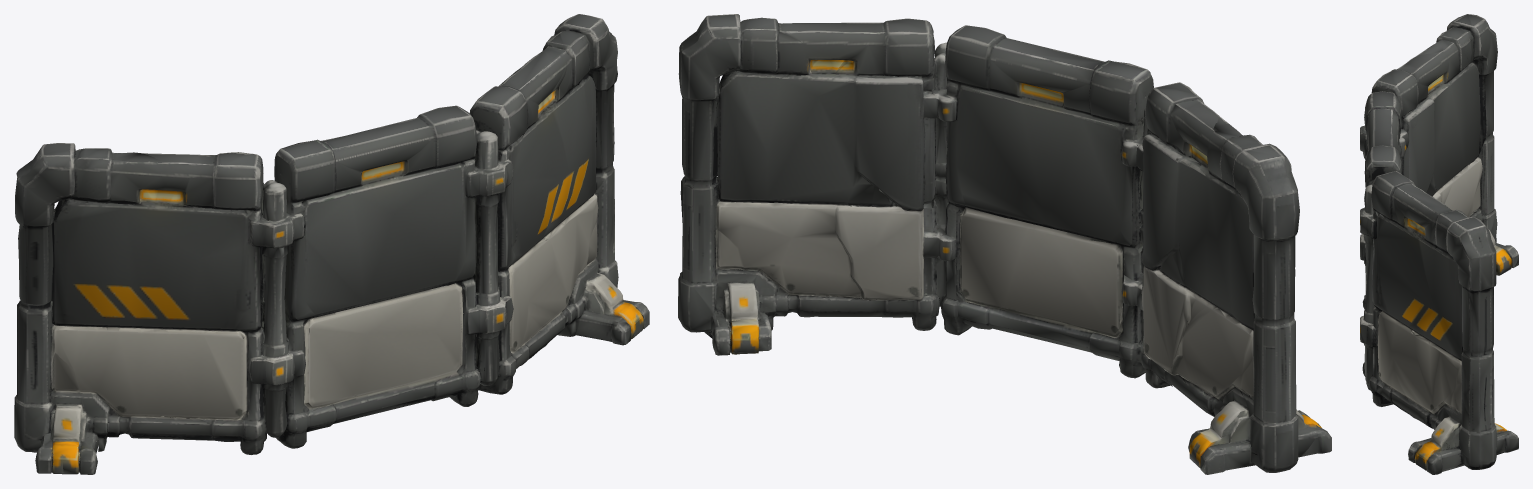
The model's file is 06_deployable_shield_deployed.fbx.
3 renders of one model, left to right at view 1: azimuth 30°, elevation 25°; view 2: azimuth 150°, elevation 25°; view 3: azimuth 270°, elevation 25°, orthographic. The views are drawn at different scales.
Visible parts, largest first — view 1: 06_deployable_shield_deployed; view 2: 06_deployable_shield_deployed; view 3: 06_deployable_shield_deployed.
Boxes of the visible parts, box(x1,y1,x2,y2) form: 06_deployable_shield_deployed: box(14, 14, 649, 474); 06_deployable_shield_deployed: box(678, 14, 1331, 474); 06_deployable_shield_deployed: box(1360, 14, 1518, 474).
Size of the model in its own units: 2.4 by 1.11 by 0.6811.
Materials: 1 (1 with a texture image).
